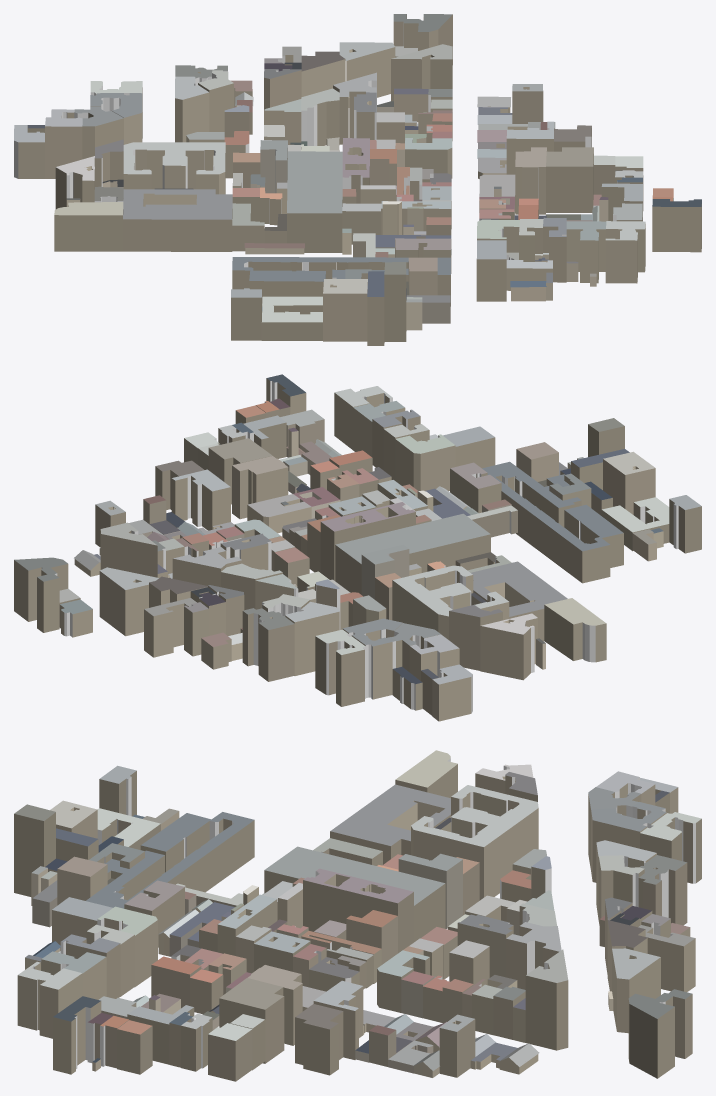
The picture shows the model from 3 angles, top to bottom: view 1: azimuth 30°, elevation 25°; view 2: azimuth 150°, elevation 25°; view 3: azimuth 270°, elevation 25°; orthographic projection. The views are drawn at different scales.
Visible parts, largest first — view 1: tuile; view 2: tuile; view 3: tuile.
Boxes of the visible parts, x1,y1,x2,y2 form: tuile: [14, 14, 701, 345]; tuile: [14, 374, 701, 721]; tuile: [14, 750, 701, 1081].
Bounding box in the file's own units: 267 × 36.35 × 269.
